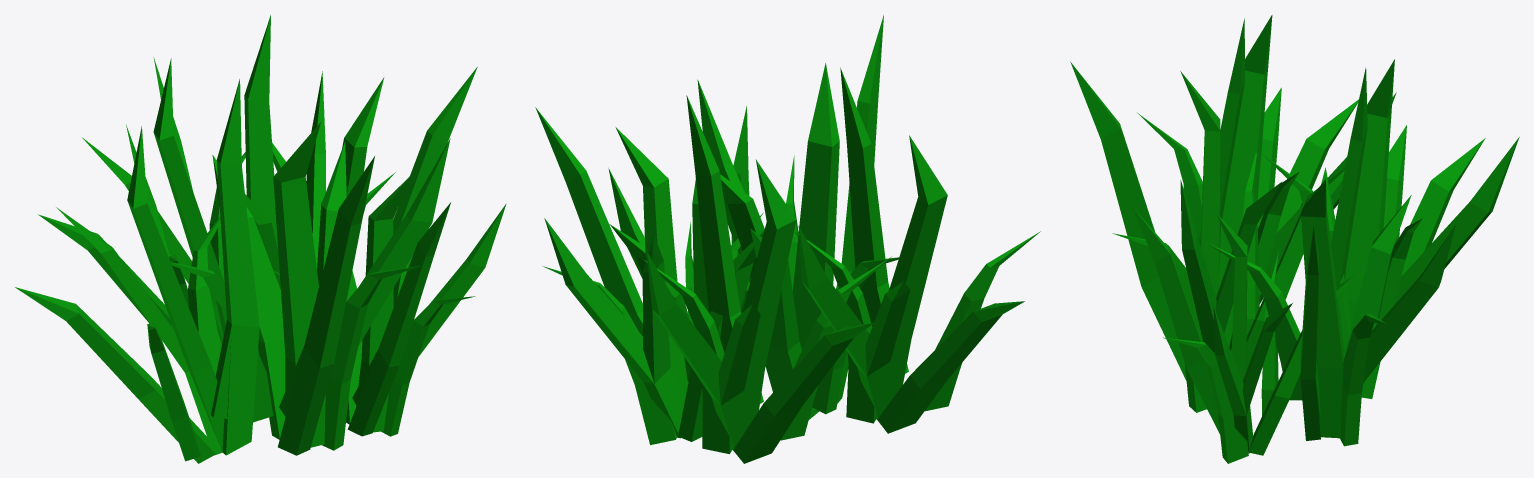
The model's file is largegrass.fbx.
3 renders of one model, left to right at view 1: azimuth 30°, elevation 25°; view 2: azimuth 150°, elevation 25°; view 3: azimuth 270°, elevation 25°, orthographic. The views are drawn at different scales.
Parts seen in each view (by area): view 1: Cube.002; view 2: Cube.002; view 3: Cube.002.
Part boxes in pixels (box(x1,y1,x2,y2)): Cube.002: box(15, 15, 506, 463); Cube.002: box(535, 15, 1040, 463); Cube.002: box(1070, 15, 1519, 463).
Bounding box in the file's own units: 158 × 122 × 132.
